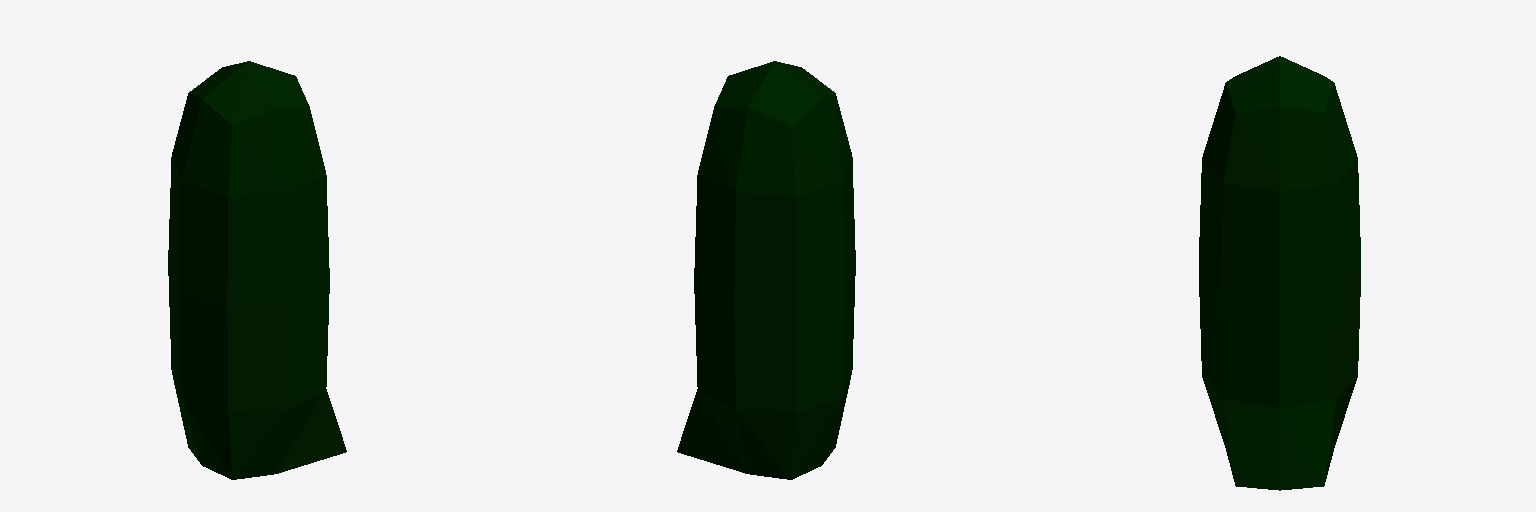
The model's file is gator_right_leg.obj.
3 views of the same model, side by side, from view 1: azimuth 30°, elevation 25°; view 2: azimuth 150°, elevation 25°; view 3: azimuth 270°, elevation 25° (orthographic).
Visible parts, largest first — view 1: gator_right_leg; view 2: gator_right_leg; view 3: gator_right_leg.
Part boxes in pixels (x1,y1,x2,y2): gator_right_leg: (168,61,346,479); gator_right_leg: (677,61,855,479); gator_right_leg: (1199,56,1360,490).
Bounding box in the file's own units: 0.1063 × 0.2576 × 0.0967.